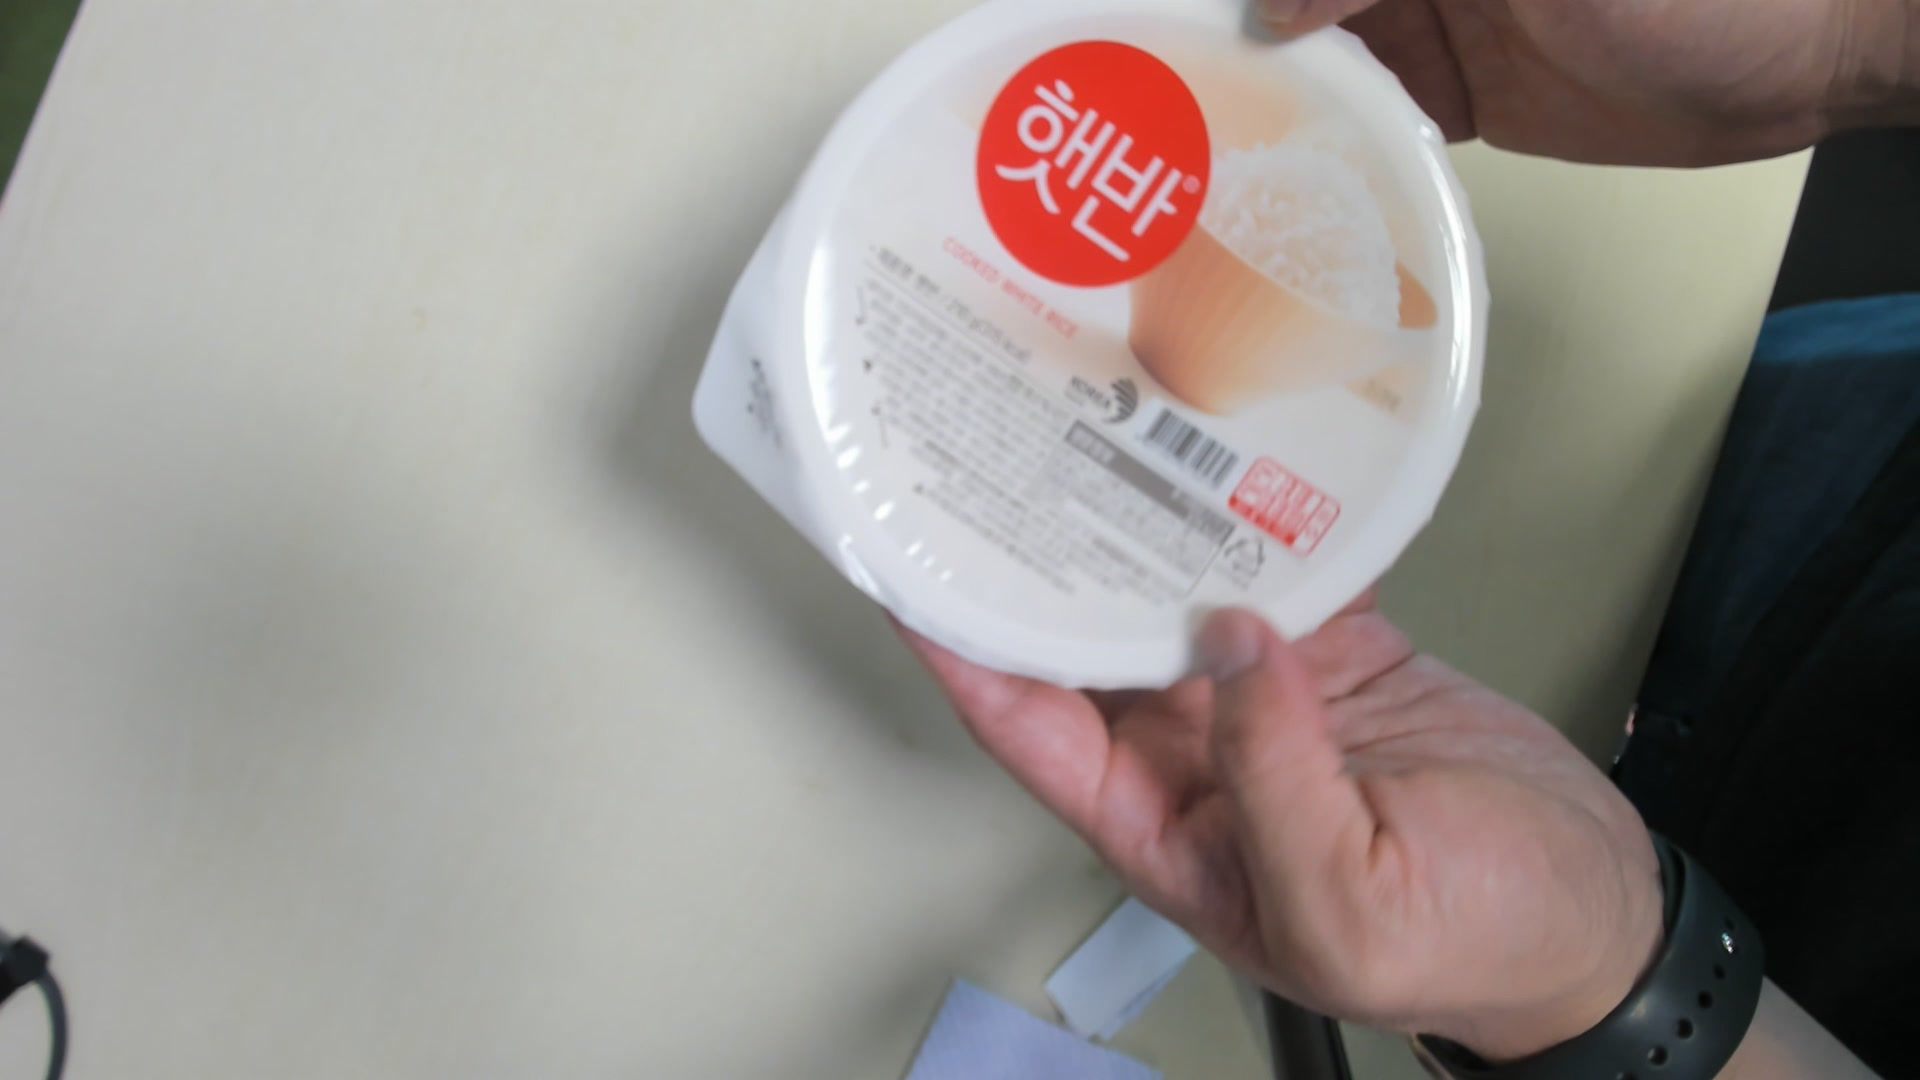Pasta_500-599g_Halal_NonHealthy: (687, 7, 1494, 692)
